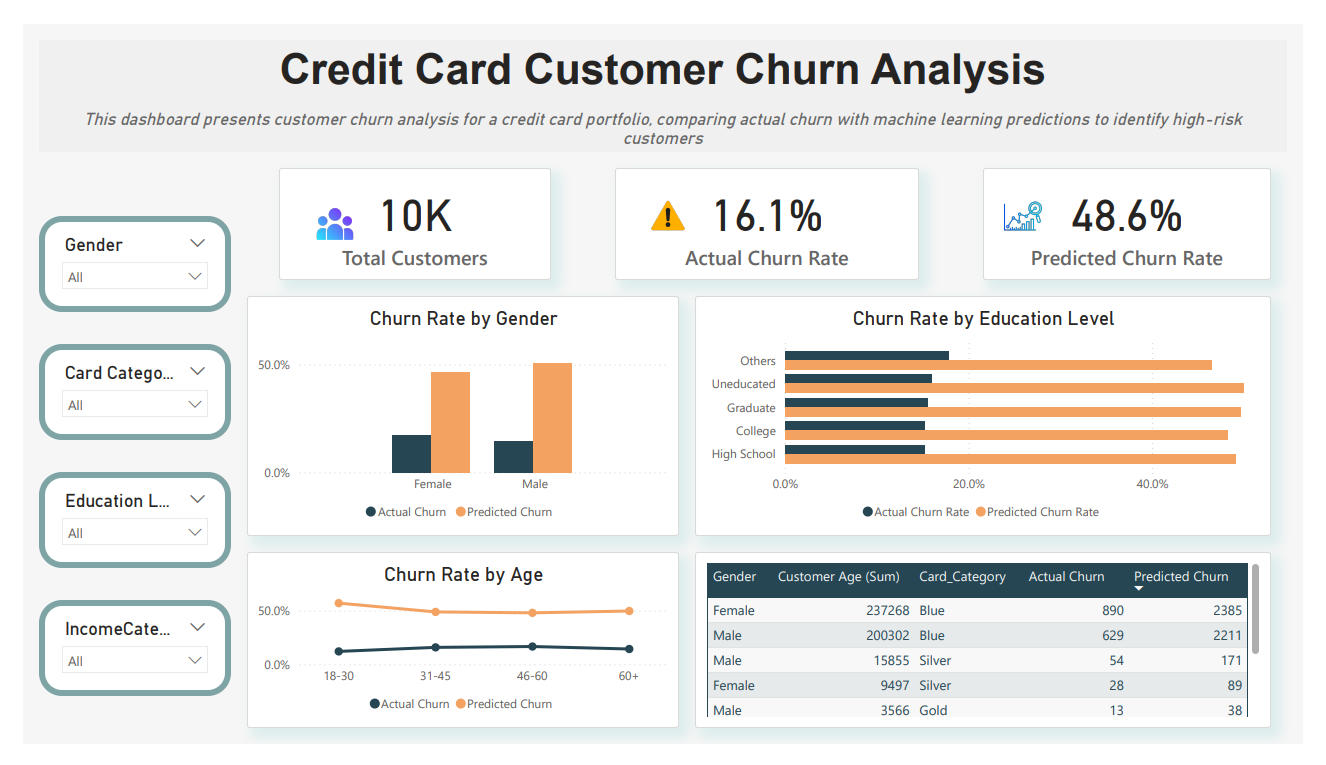

Layout of this report page (visuals, bound fields, positions):
{"tool":"powerbi","page":{"name":"Page 1","canvas":[1280,720],"ordinal":0},"visuals":[{"type":"card","title":"Total Customers","fields":{"Values":["bank_churn_with_predictions.Total Customers"]},"box":[256,144,272,112],"z":0,"group":"g6"},{"type":"group","id":"g1","title":"Group 2","box":[960,144,288,112],"z":0,"group":"g3"},{"type":"clusteredBarChart","title":"Churn Rate by Education Level","fields":{"Y":["bank_churn_with_predictions.Actual Churn Rate","bank_churn_with_predictions.Predicted Churn Rate"],"Category":["bank_churn_with_predictions.Education_Level"]},"box":[672,272,576,240],"z":0},{"type":"card","title":"Actual Churn Rate","fields":{"Values":["bank_churn_with_predictions.Actual Churn Rate"]},"box":[592,144,304,112],"z":1000,"group":"g7"},{"type":"image","box":[976,160,48,64],"z":1000,"group":"g3"},{"type":"clusteredColumnChart","title":"Churn Rate by Gender","fields":{"Category":["bank_churn_with_predictions.Gender"],"Y":["bank_churn_with_predictions.Actual Churn Rate","bank_churn_with_predictions.Predicted Churn Rate"]},"box":[224,272,432,240],"z":1000},{"type":"card","title":"Predicted Churn Rate","fields":{"Values":["bank_churn_with_predictions.Predicted Churn Rate"]},"box":[960,144,288,112],"z":2000,"group":"g8"},{"type":"lineChart","title":"Churn Rate by Age","fields":{"Category":["bank_churn_with_predictions.Age_Group"],"Y":["bank_churn_with_predictions.Actual Churn Rate","bank_churn_with_predictions.Predicted Churn Rate"]},"box":[224,528,432,176],"z":2000},{"type":"tableEx","fields":{"Values":["bank_churn_with_predictions.Gender","Sum(bank_churn_with_predictions.Customer_Age)","bank_churn_with_predictions.Card_Category","Sum(bank_churn_with_predictions.Actual_Churn)","Sum(bank_churn_with_predictions.Predicted_Churn)"]},"box":[672,528,576,176],"z":3000},{"type":"slicer","fields":{"Values":["bank_churn_with_predictions.Gender"]},"box":[16,192,192,96],"z":4000},{"type":"slicer","fields":{"Values":["bank_churn_with_predictions.Card_Category"]},"box":[16,320,192,96],"z":5000},{"type":"slicer","fields":{"Values":["bank_churn_with_predictions.Education_Level"]},"box":[16,448,192,96],"z":6000},{"type":"slicer","fields":{"Values":["bank_churn_with_predictions.Income_Category"]},"box":[16,576,192,96],"z":7000},{"type":"textbox","box":[16,80,1248,48],"z":8000},{"type":"group","id":"g2","title":"Group 1","box":[592,144,304,112],"z":9000},{"type":"textbox","box":[16,16,1248,64],"z":10000},{"type":"image","box":[622.4,160,45.6,64],"z":10003,"group":"g7"},{"type":"group","id":"g3","title":"Group 4","box":[960,144,288,112],"z":11000},{"type":"group","id":"g4","title":"Group 5","box":[256,144,272,112],"z":12000},{"type":"group","id":"g5","title":"Group 6","box":[256,144,272,112],"z":12001,"group":"g4"},{"type":"group","id":"g6","title":"Group 8","box":[256,144,272,112],"z":12001,"group":"g5"},{"type":"group","id":"g7","title":"Group 7","box":[592,144,304,112],"z":12001,"group":"g2"},{"type":"group","id":"g8","title":"Group 3","box":[960,144,288,112],"z":12001,"group":"g1"},{"type":"image","box":[272,176,80,48],"z":12003,"group":"g6"}]}

Visuals, with their boxes in screenshot pixels (x1, y1, x2, y2), scaled from the page's 1280x720 canvas onto the 1326x765 screenshot:
"Total Customers" card: pyautogui.locateOnScreen(265, 153, 547, 272)
"Group 2" group: pyautogui.locateOnScreen(994, 153, 1293, 272)
"Churn Rate by Education Level" clusteredBarChart: pyautogui.locateOnScreen(696, 289, 1293, 544)
"Actual Churn Rate" card: pyautogui.locateOnScreen(613, 153, 928, 272)
image: pyautogui.locateOnScreen(1011, 170, 1061, 238)
"Churn Rate by Gender" clusteredColumnChart: pyautogui.locateOnScreen(232, 289, 680, 544)
"Predicted Churn Rate" card: pyautogui.locateOnScreen(994, 153, 1293, 272)
"Churn Rate by Age" lineChart: pyautogui.locateOnScreen(232, 561, 680, 748)
tableEx - bank_churn_with_predictions.Gender x Sum(bank_churn_with_predictions.Customer_Age): pyautogui.locateOnScreen(696, 561, 1293, 748)
slicer - bank_churn_with_predictions.Gender: pyautogui.locateOnScreen(17, 204, 215, 306)
slicer - bank_churn_with_predictions.Card_Category: pyautogui.locateOnScreen(17, 340, 215, 442)
slicer - bank_churn_with_predictions.Education_Level: pyautogui.locateOnScreen(17, 476, 215, 578)
slicer - bank_churn_with_predictions.Income_Category: pyautogui.locateOnScreen(17, 612, 215, 714)
textbox: pyautogui.locateOnScreen(17, 85, 1309, 136)
"Group 1" group: pyautogui.locateOnScreen(613, 153, 928, 272)
textbox: pyautogui.locateOnScreen(17, 17, 1309, 85)
image: pyautogui.locateOnScreen(645, 170, 692, 238)
"Group 4" group: pyautogui.locateOnScreen(994, 153, 1293, 272)
"Group 5" group: pyautogui.locateOnScreen(265, 153, 547, 272)
"Group 6" group: pyautogui.locateOnScreen(265, 153, 547, 272)
"Group 8" group: pyautogui.locateOnScreen(265, 153, 547, 272)
"Group 7" group: pyautogui.locateOnScreen(613, 153, 928, 272)
"Group 3" group: pyautogui.locateOnScreen(994, 153, 1293, 272)
image: pyautogui.locateOnScreen(282, 187, 365, 238)
